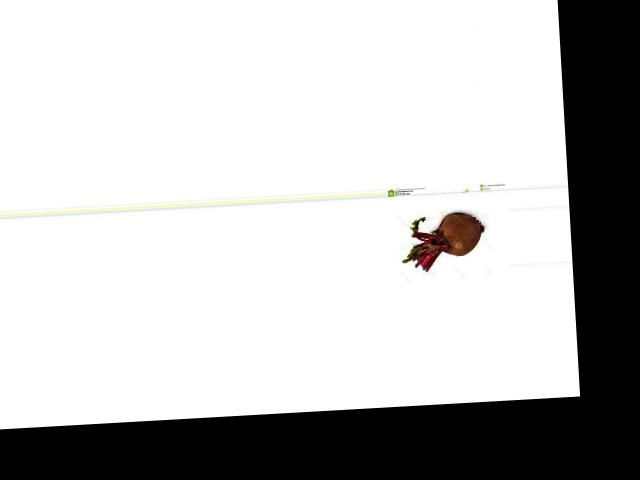beet: (400, 212, 487, 272)
